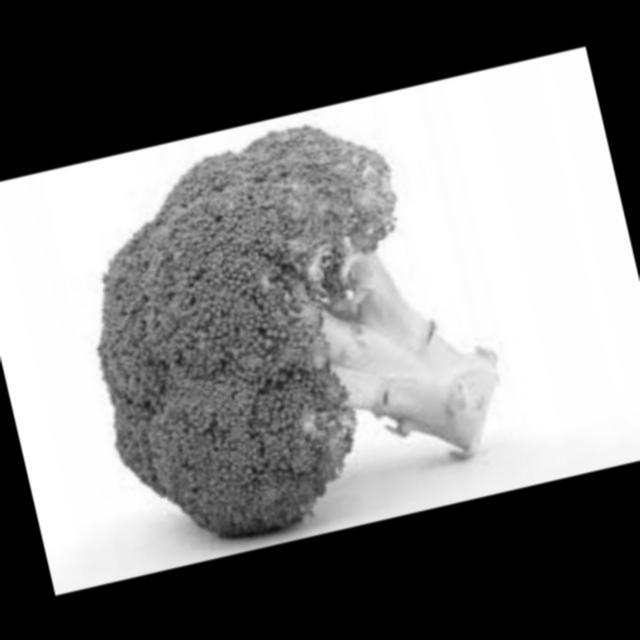broccoli: (41, 76, 536, 562)
